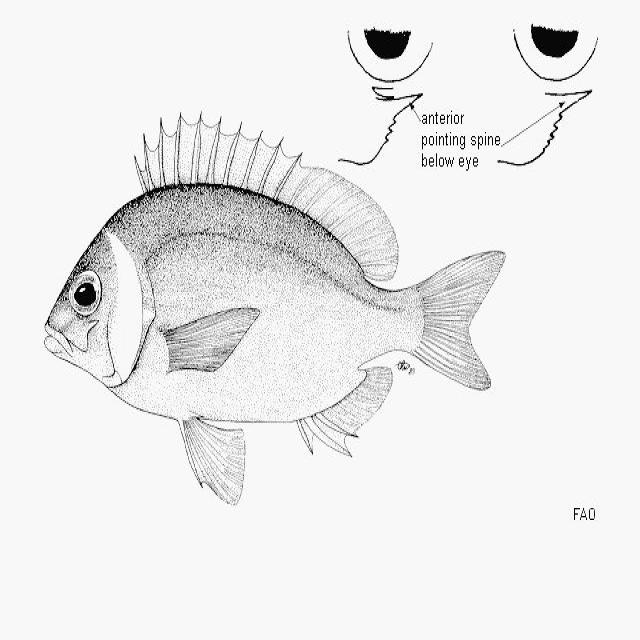ikan: (42, 108, 506, 505)
